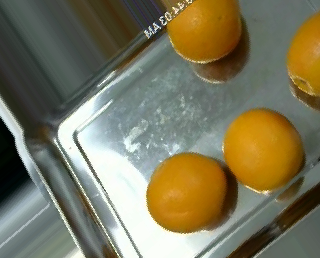Orange: (224, 107, 306, 193), (145, 152, 226, 232), (166, 1, 241, 62)
